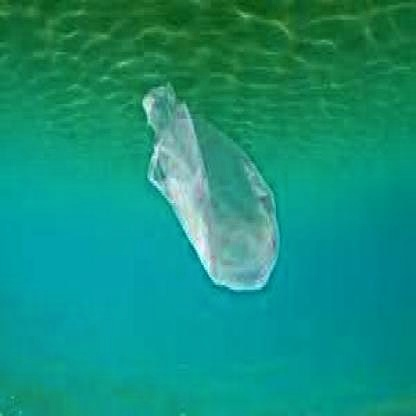pbag: (142, 79, 280, 292)
